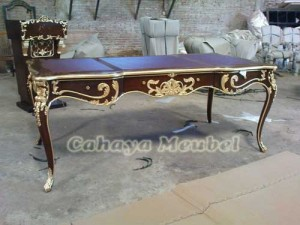Carving Table: (23, 49, 280, 182)
